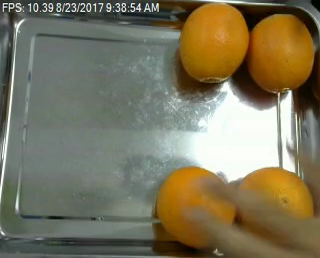Orange: (180, 1, 250, 83), (248, 12, 314, 91)
